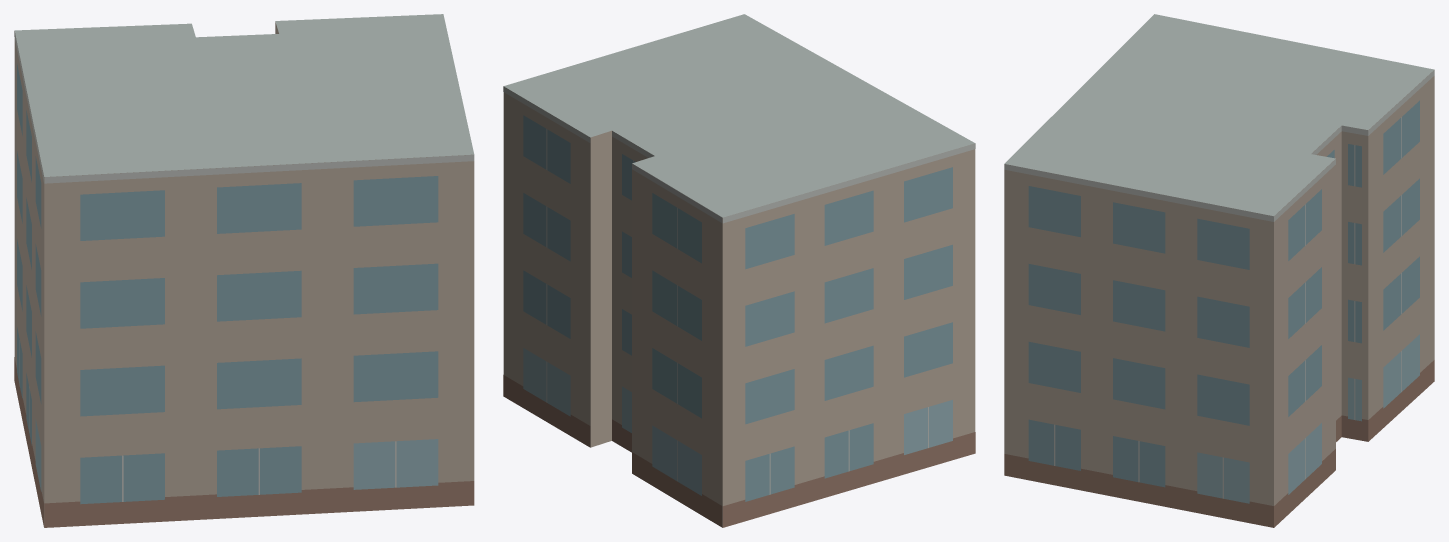
File: survey-upis-32827058.glb
3 renders of one model, left to right at view 1: azimuth 30°, elevation 25°; view 2: azimuth 150°, elevation 25°; view 3: azimuth 270°, elevation 25°, orthographic. The views are drawn at different scales.
Visible parts, largest first — view 1: survey-upis-32827058.tmp; view 2: survey-upis-32827058.tmp; view 3: survey-upis-32827058.tmp.
Boxes of the visible parts, left/top/right/bottom form: survey-upis-32827058.tmp: left=14, top=14, right=474, bottom=527; survey-upis-32827058.tmp: left=503, top=14, right=975, bottom=527; survey-upis-32827058.tmp: left=1004, top=14, right=1434, bottom=527.
Size of the model in its own units: 18.24 by 13.1 by 16.4.
